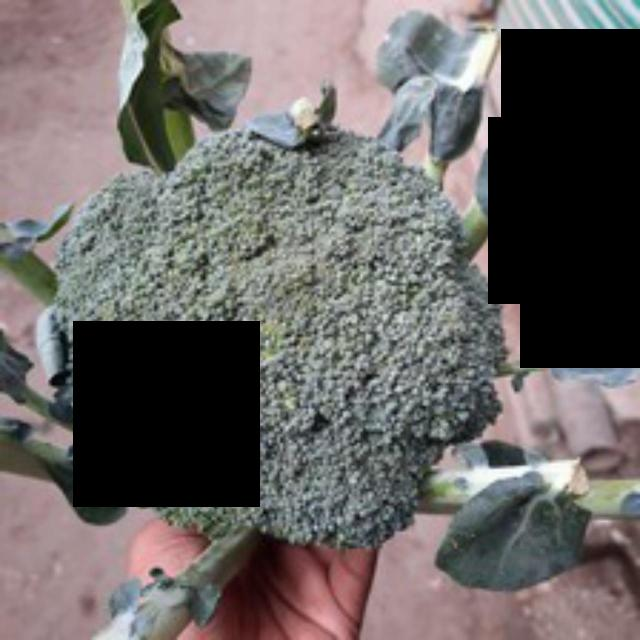broccoli: (70, 117, 506, 554)
